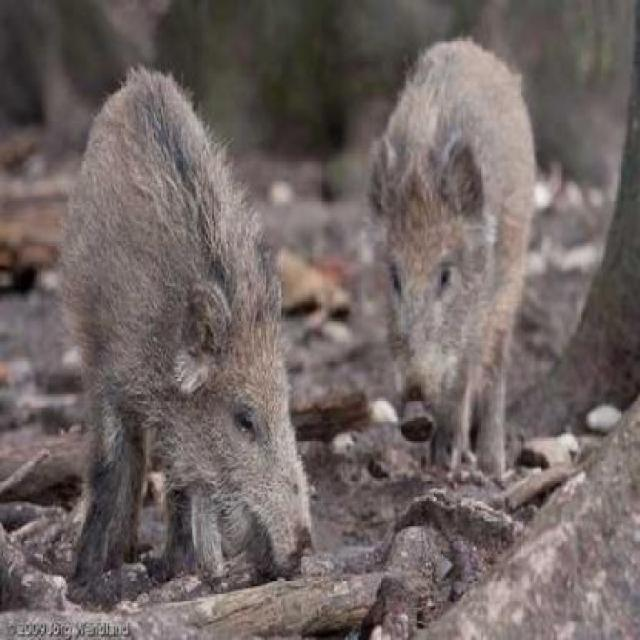pig: (4, 57, 343, 595), (364, 11, 542, 488)
